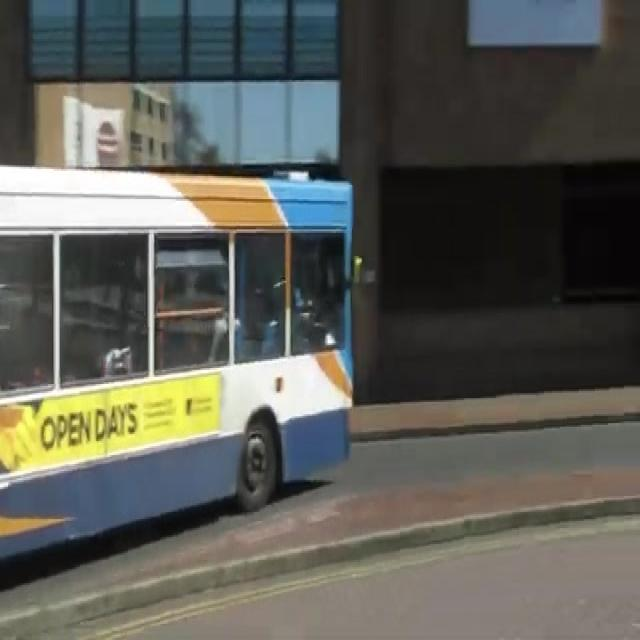bus: (1, 136, 364, 568)
